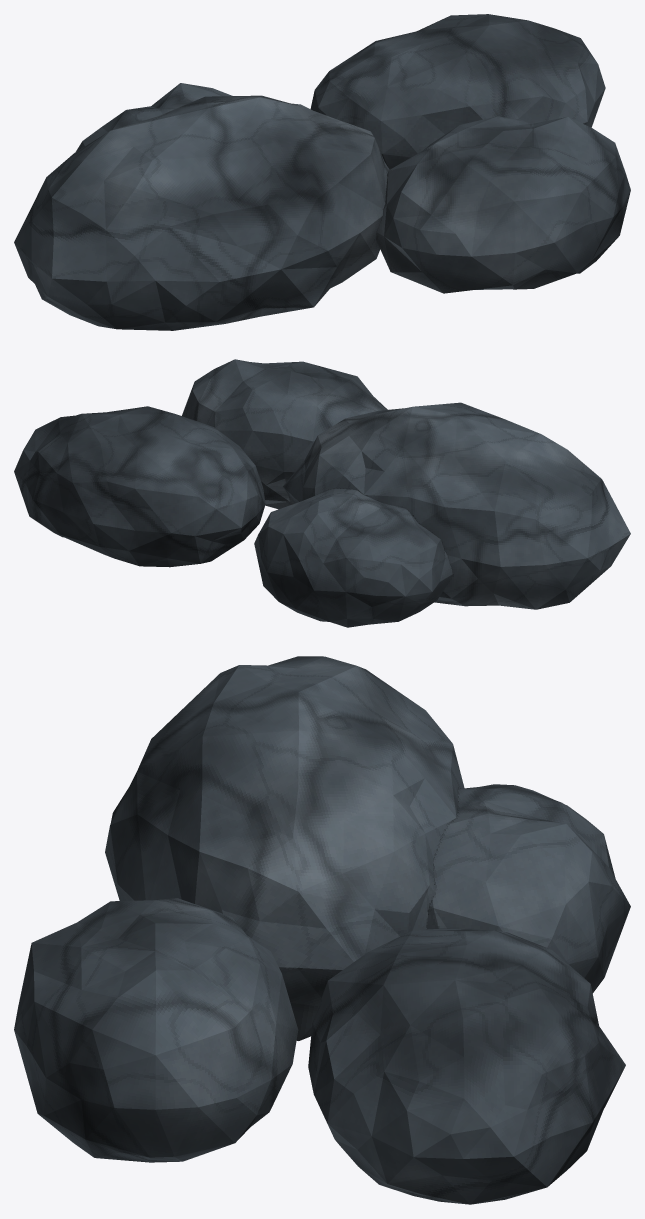
The model's file is ramp_snow_rock_small_b.glb.
3 renders of one model, top to bottom at view 1: azimuth 30°, elevation 25°; view 2: azimuth 150°, elevation 25°; view 3: azimuth 270°, elevation 25°, orthographic. The views are drawn at different scales.
Parts seen in each view (by area): view 1: ramp_snow_rock_small_b; view 2: ramp_snow_rock_small_b; view 3: ramp_snow_rock_small_b.
Boxes of the visible parts, x1,y1,x2,y2 form: ramp_snow_rock_small_b: [14, 14, 630, 330]; ramp_snow_rock_small_b: [14, 359, 630, 627]; ramp_snow_rock_small_b: [14, 656, 630, 1204].
Bounding box in the file's own units: 1.13 × 0.3141 × 0.6939.
Materials: 1 (1 with a texture image).
